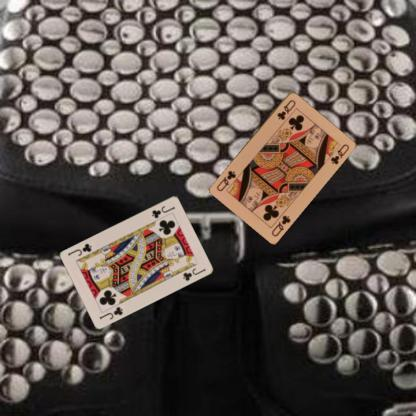Jc: (97, 303, 124, 321), (149, 203, 177, 219)
Qc: (269, 212, 292, 237), (274, 97, 297, 121)
